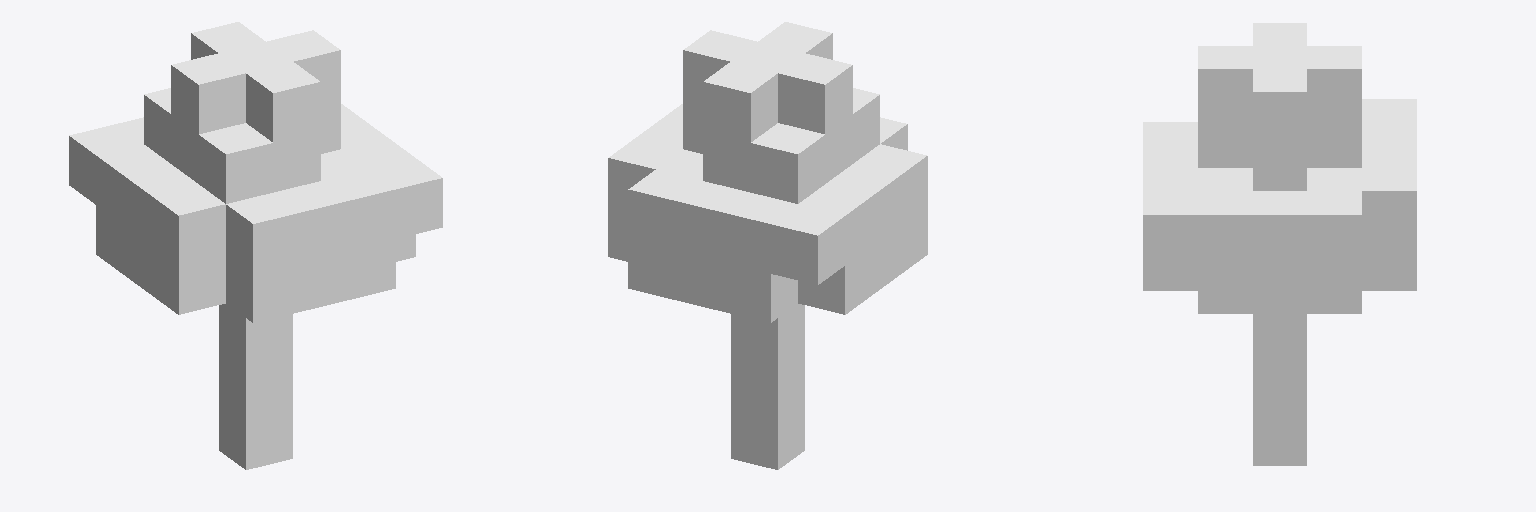
File: Birch_1.obj
3 views of the same model, side by side, from view 1: azimuth 30°, elevation 25°; view 2: azimuth 150°, elevation 25°; view 3: azimuth 270°, elevation 25° (orthographic).
Visible parts, largest first — view 1: _(2)__14_-60_1_to_19_319_5; view 2: _(2)__14_-60_1_to_19_319_5; view 3: _(2)__14_-60_1_to_19_319_5.
Boxes of the visible parts, x1,y1,x2,y2 form: _(2)__14_-60_1_to_19_319_5: [69, 22, 442, 469]; _(2)__14_-60_1_to_19_319_5: [608, 22, 927, 469]; _(2)__14_-60_1_to_19_319_5: [1143, 23, 1416, 465].
Size of the model in its own units: 5 by 8 by 5.